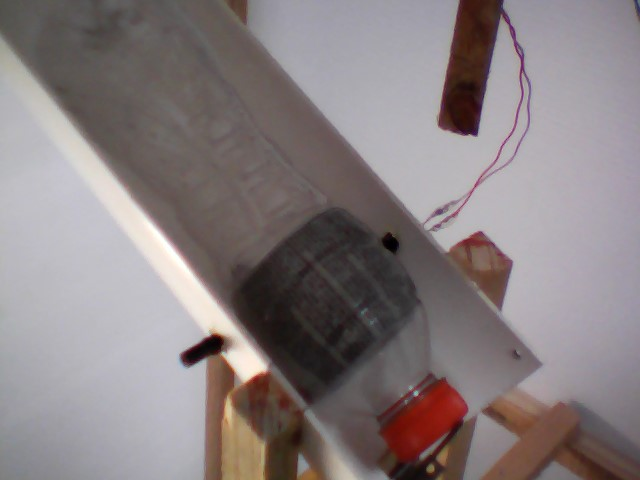plastico: (19, 1, 488, 469)
